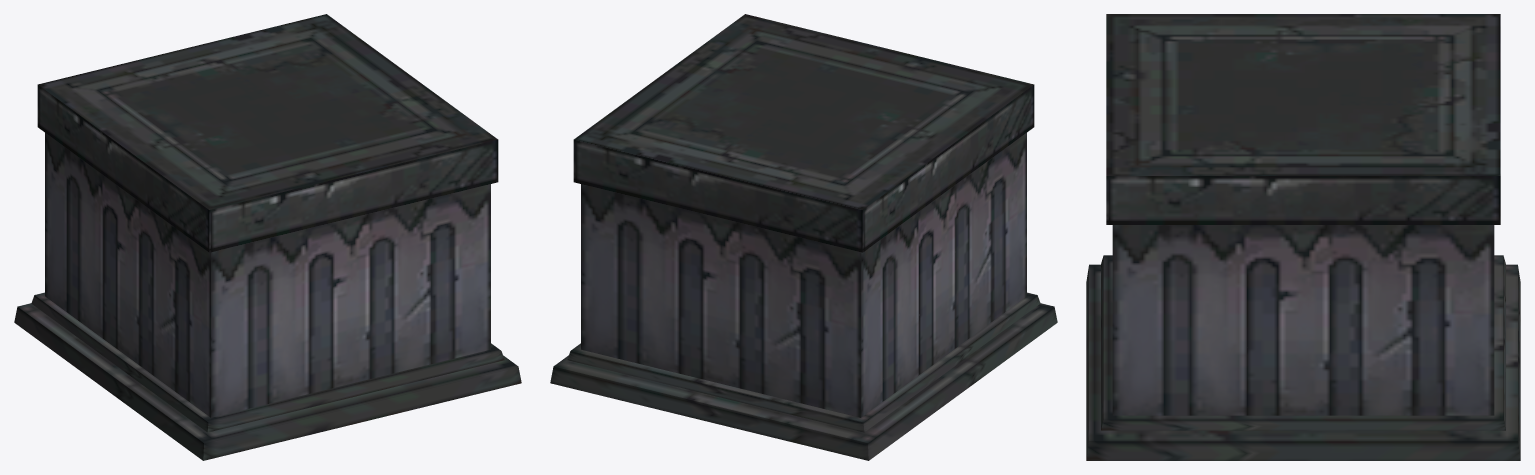
File: TwistedJungle_columns02.FBX
The picture shows the model from 3 angles, left to right: view 1: azimuth 30°, elevation 25°; view 2: azimuth 150°, elevation 25°; view 3: azimuth 270°, elevation 25°; orthographic projection. The views are drawn at different scales.
Visible parts, largest first — view 1: TwistedJungle_columns02; view 2: TwistedJungle_columns02; view 3: TwistedJungle_columns02.
Boxes of the visible parts, x1,y1,x2,y2 form: TwistedJungle_columns02: (14,14,521,460); TwistedJungle_columns02: (550,14,1057,460); TwistedJungle_columns02: (1086,14,1520,460).
Bounding box in the file's own units: 5.67 × 4.1 × 5.83.
